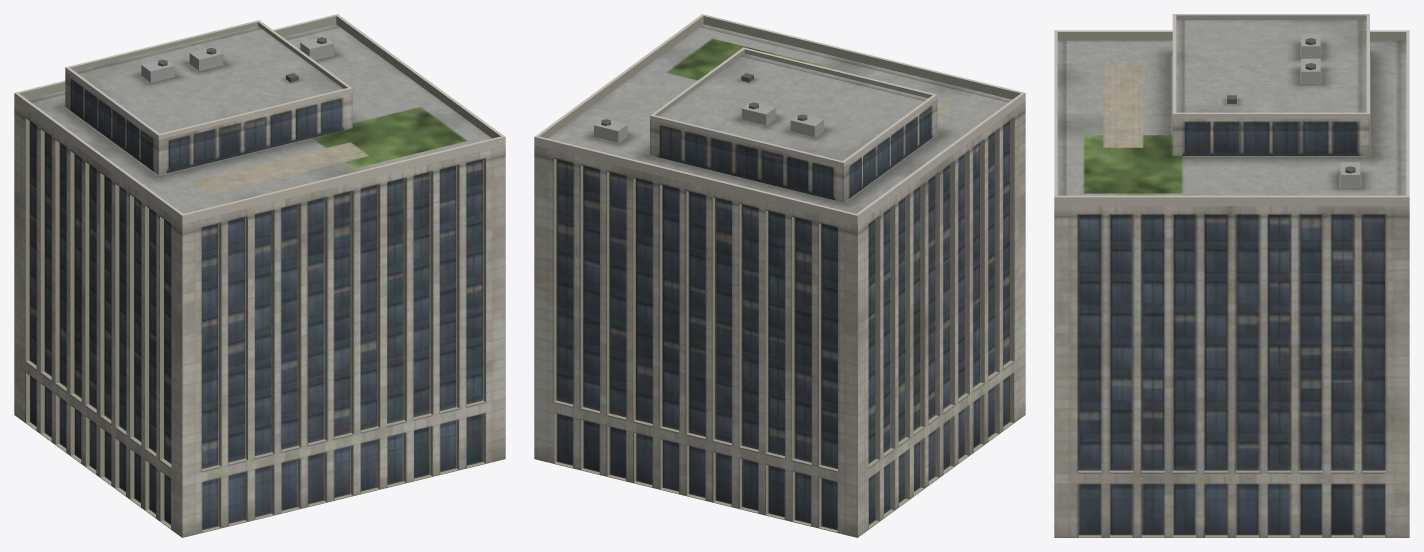
Rendered from dc_office_glass_c.glb.
The picture shows the model from 3 angles, left to right: view 1: azimuth 30°, elevation 25°; view 2: azimuth 150°, elevation 25°; view 3: azimuth 270°, elevation 25°; orthographic projection. The views are drawn at different scales.
Visible parts, largest first — view 1: dc_office_glass_c; view 2: dc_office_glass_c; view 3: dc_office_glass_c.
Boxes of the visible parts, bbox=[...] form: dc_office_glass_c: bbox=[14, 14, 505, 537]; dc_office_glass_c: bbox=[534, 14, 1025, 537]; dc_office_glass_c: bbox=[1054, 14, 1409, 537].
Size of the model in its own units: 40 by 42.85 by 36.
1 material, 1 textured.
